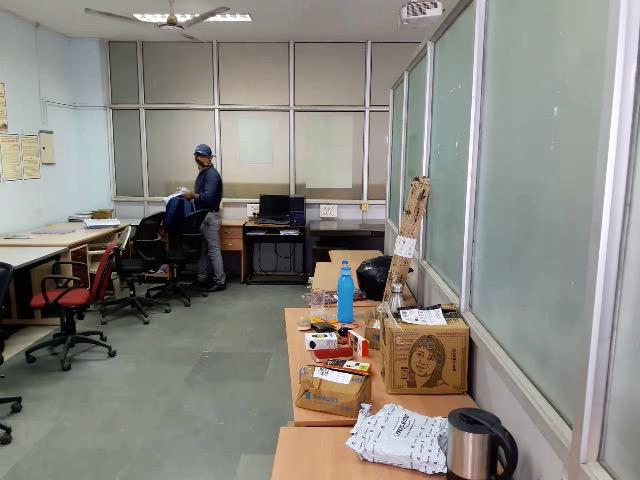shoplifting: (118, 176, 250, 250)
